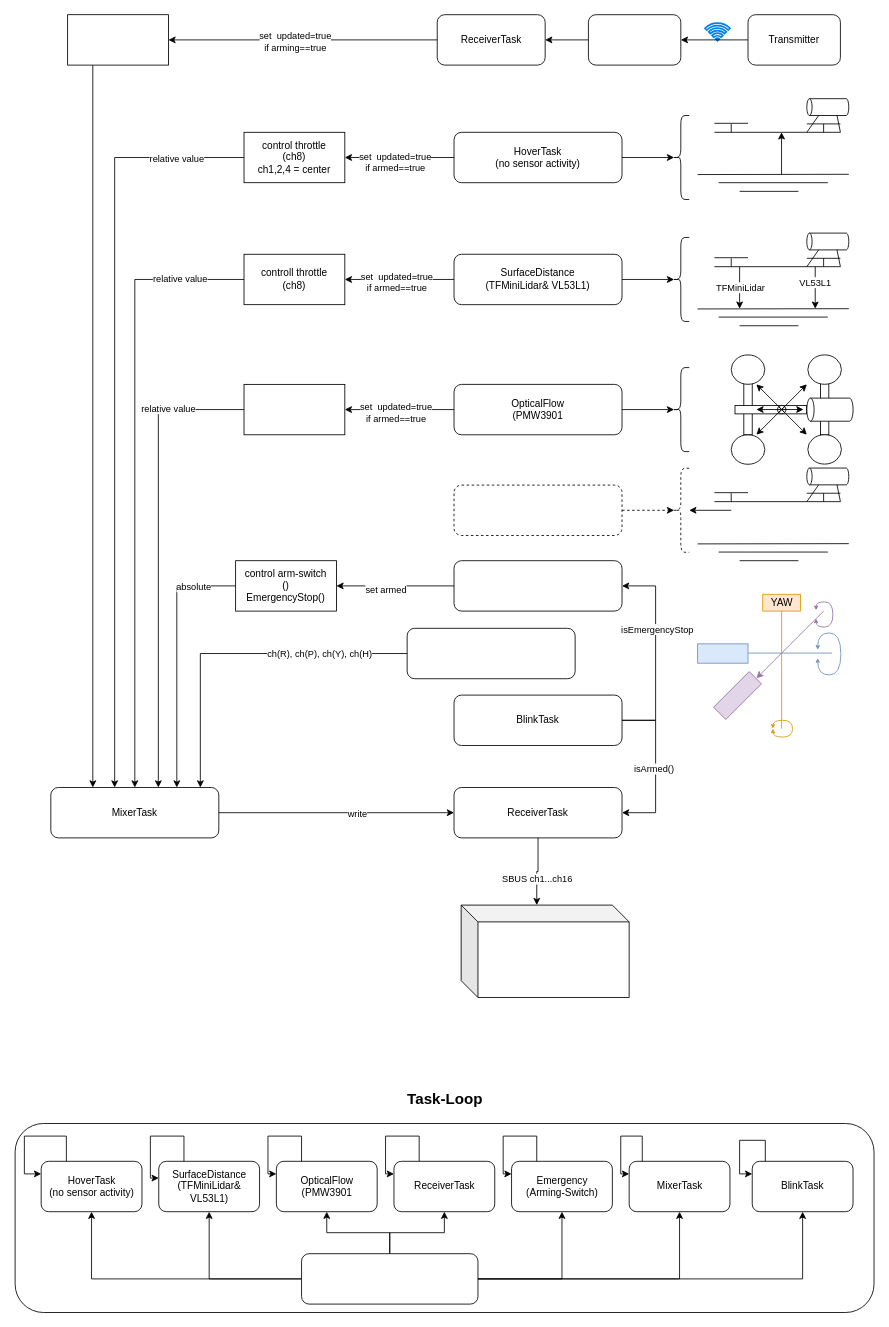
Some shapes in this 889 by 1327 pixel diagram are drawn without their labels. Each missing label, with the centre of its shape:
BBD ch1...ch8(ch16) (absolute value): (117,39)
BetaFlight FlightController: (544,951)
controll roll/pitch (ch1+ch2) if ch1,2,== center if ch3 = MIN: (294,409)
Emergency (arming, fail_safe, lost_frame): (537,585)
FrontDistance (TFMiniLidar): (537,510)
PITCH: (722,653)
ROLL: (737,695)
SBUS (Receiver): (634,39)
SteeringTask: (490,653)
Task-Scheduler (10ms): (389,1278)
